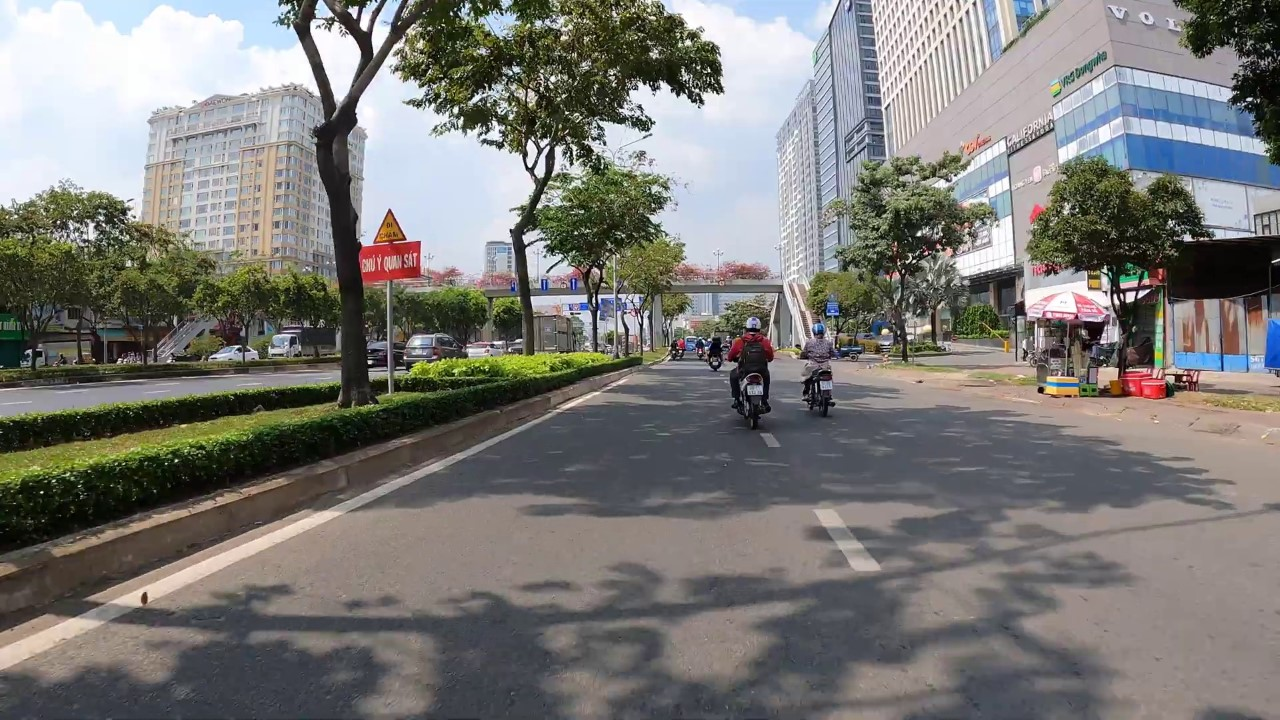di_cham: (372, 207, 408, 245)
